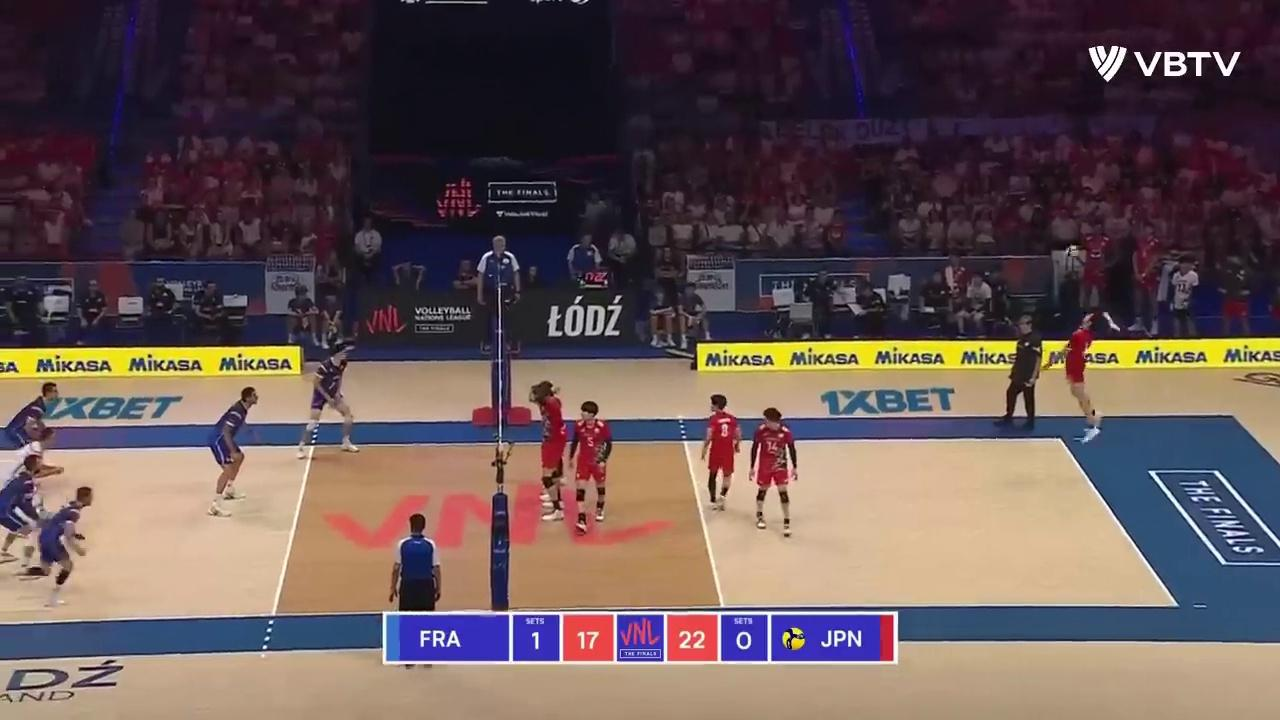ball: (1068, 245, 1078, 259)
